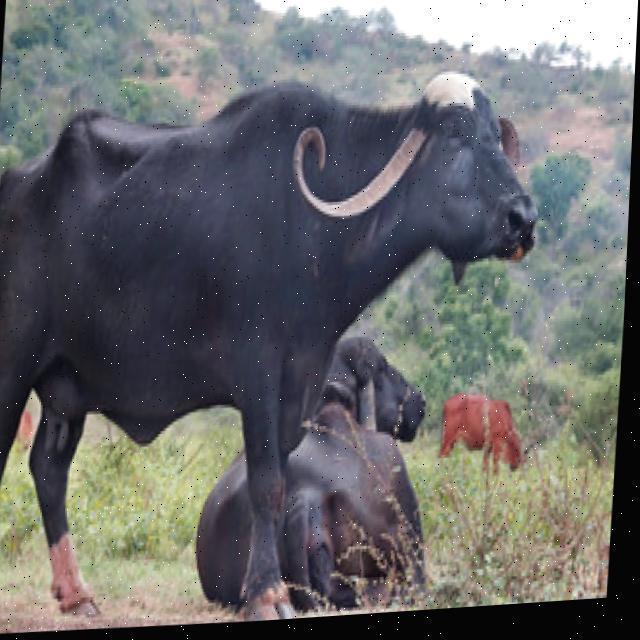Buffalo: (0, 47, 549, 640)
